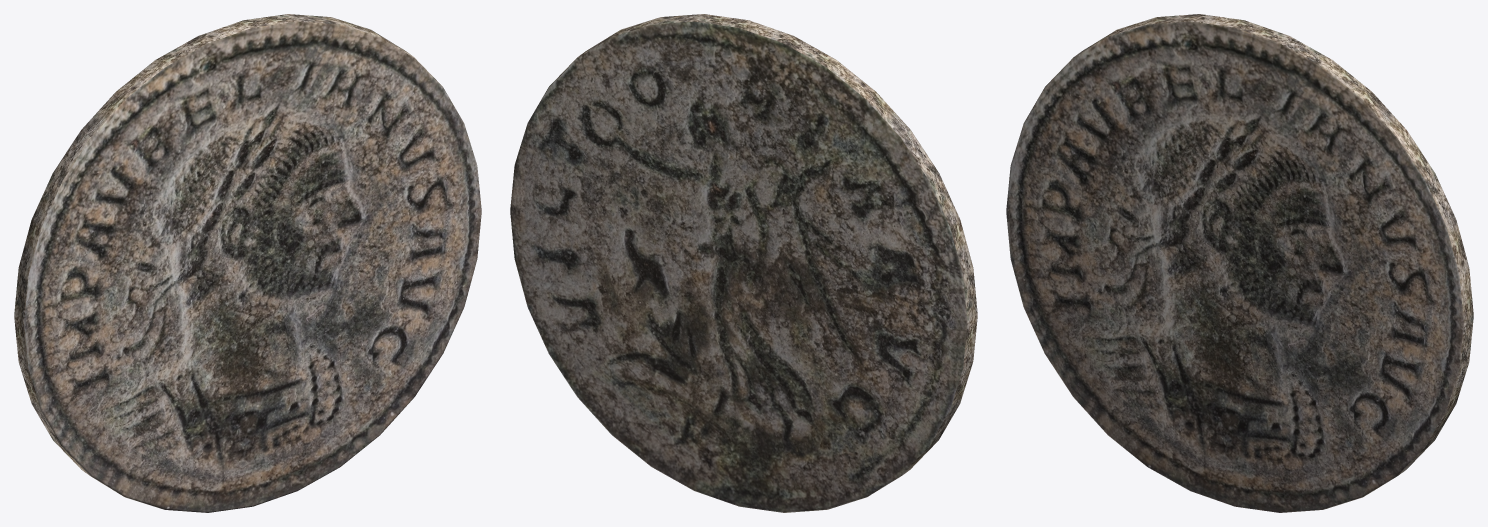
The model's file is roman_coin.gltf.
3 renders of one model, left to right at view 1: azimuth 30°, elevation 25°; view 2: azimuth 150°, elevation 25°; view 3: azimuth 330°, elevation 25°, orthographic.
Parts seen in each view (by area): view 1: roman_coin; view 2: roman_coin; view 3: roman_coin.
Part boxes in pixels (x1,y1,x2,y2): roman_coin: (14, 14, 481, 512); roman_coin: (510, 14, 977, 512); roman_coin: (1006, 14, 1473, 512).
Size of the model in its own units: 0.0773 by 0.0773 by 0.0031.
1 material, 1 textured.
